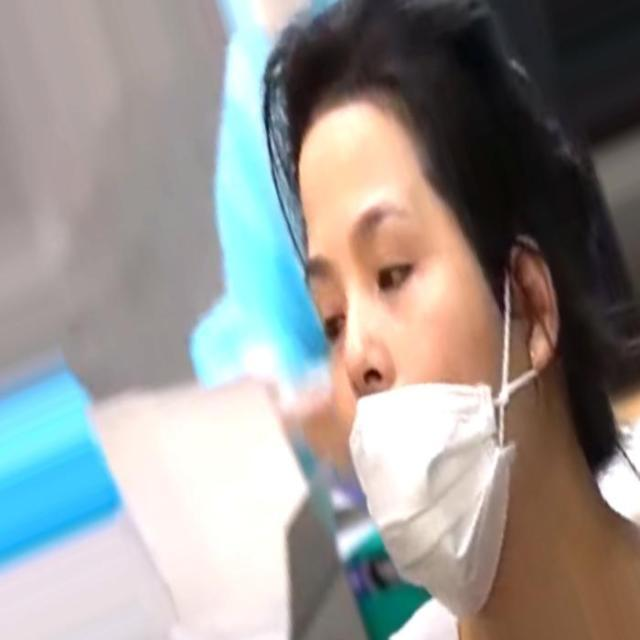hairnet: (302, 197, 514, 608)
